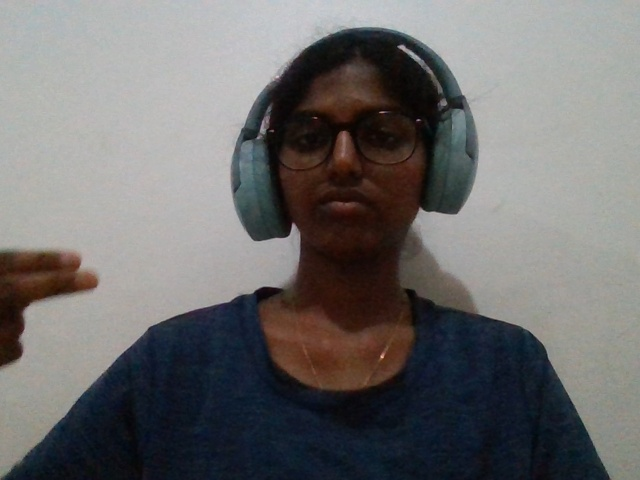H: (2, 232, 106, 405)
